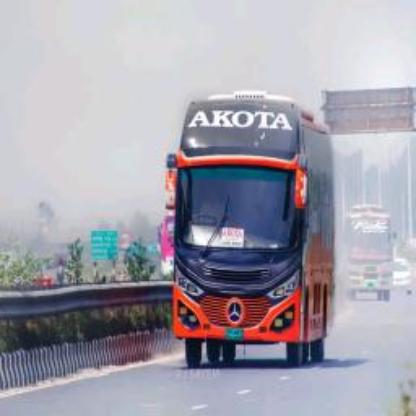bus: (165, 86, 327, 380), (350, 200, 396, 300)
